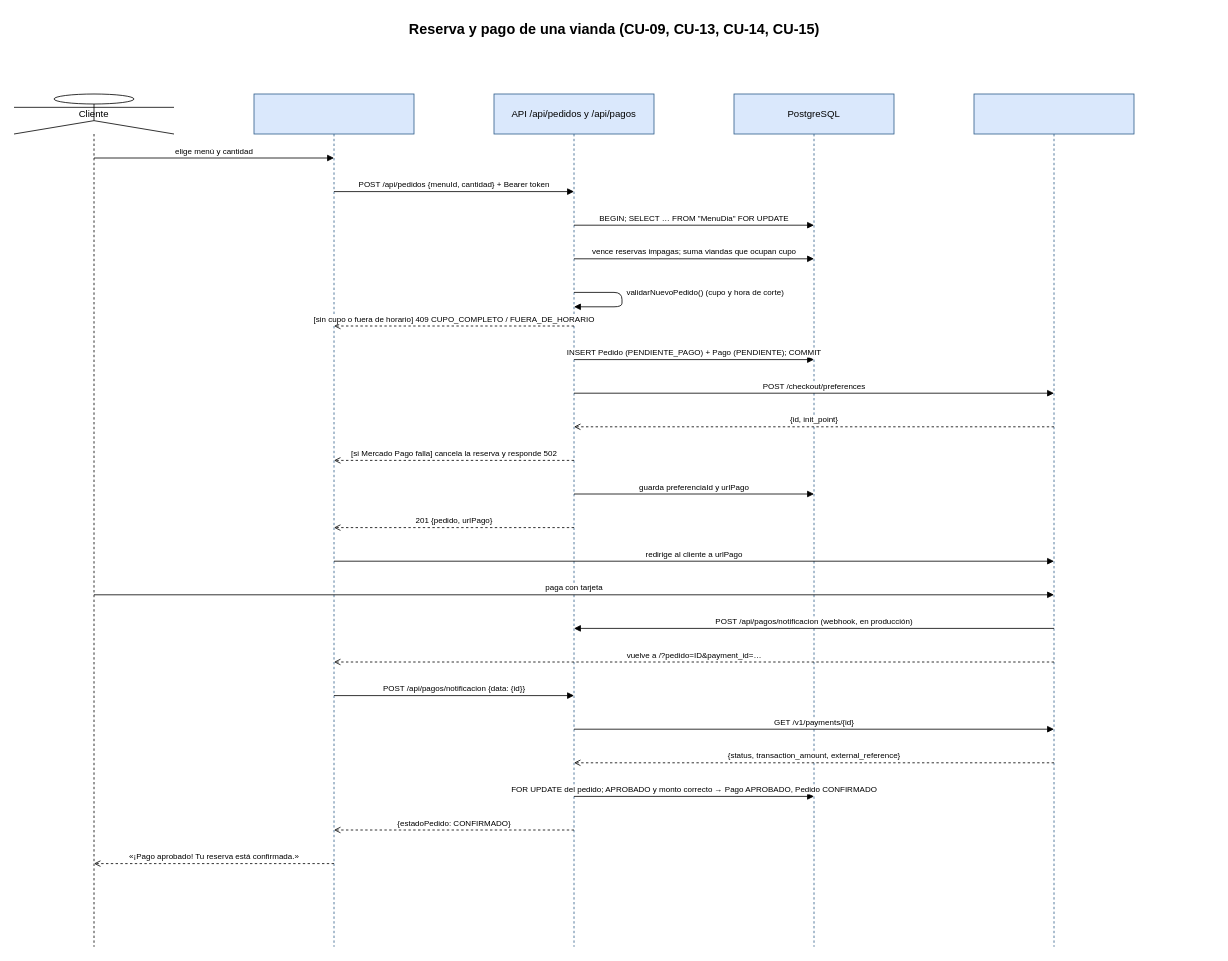
The diagram is 1228 pixels wide and 961 high, and some of its shapes have lost their labels. The shapes that lost their labels are listed below. From the top down, each one's box as (x1, y1, x2, y2) in pixels, then its label:
(253, 93, 414, 947): Frontend (React)
(973, 93, 1134, 947): Mercado Pago
